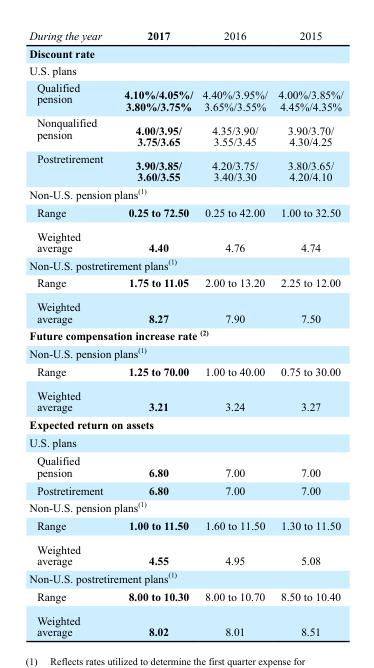table: (28, 28, 342, 637)
table column: (112, 28, 197, 637), (28, 28, 112, 637), (197, 28, 272, 637), (272, 28, 342, 637)
table column header: (28, 28, 342, 43)
table projected row header: (28, 184, 342, 203), (28, 343, 342, 362), (28, 432, 342, 451), (28, 497, 342, 516), (28, 43, 342, 61), (28, 255, 342, 273), (28, 568, 342, 586), (28, 61, 342, 78), (28, 326, 342, 343), (28, 415, 342, 432)
table row: (28, 78, 342, 114), (28, 114, 342, 149), (28, 149, 342, 184), (28, 382, 342, 415), (28, 223, 342, 255), (28, 294, 342, 326), (28, 537, 342, 568), (28, 607, 342, 637), (28, 451, 342, 480), (28, 273, 342, 294), (28, 516, 342, 537), (28, 586, 342, 607), (28, 203, 342, 223), (28, 362, 342, 382), (28, 184, 342, 203), (28, 343, 342, 362), (28, 432, 342, 451), (28, 497, 342, 516), (28, 43, 342, 61), (28, 255, 342, 273), (28, 568, 342, 586), (28, 61, 342, 78), (28, 326, 342, 343), (28, 415, 342, 432), (28, 480, 342, 497), (28, 28, 342, 43)
